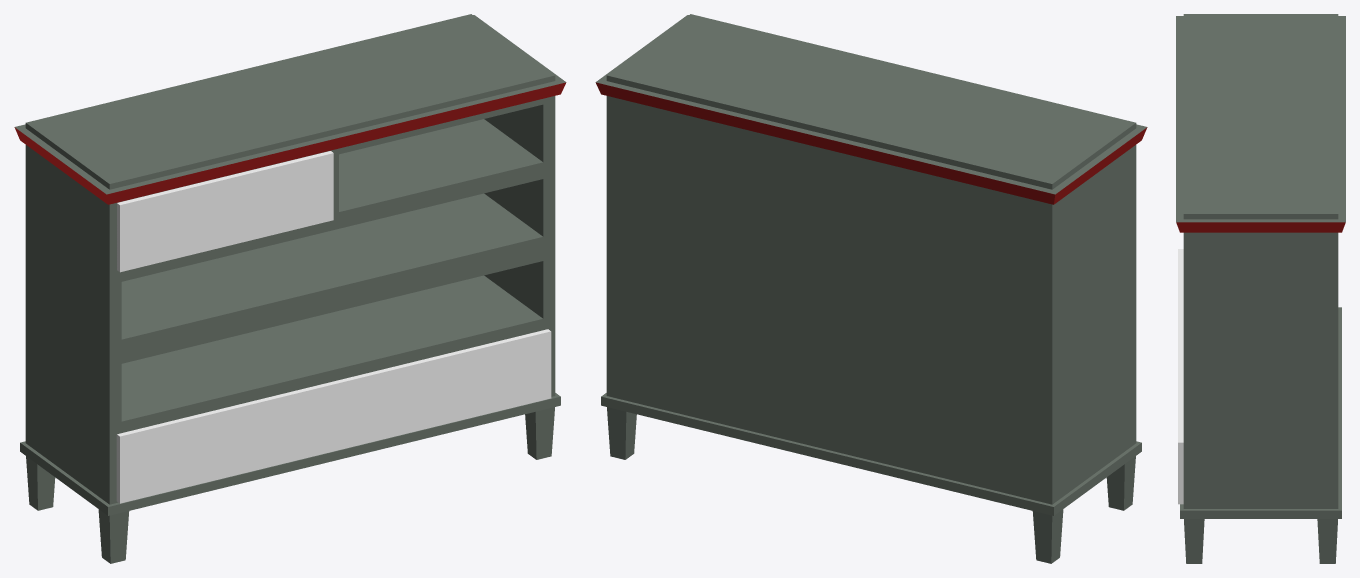
Rendered from operating_drawer.fbx.
3 views of the same model, side by side, from view 1: azimuth 30°, elevation 25°; view 2: azimuth 150°, elevation 25°; view 3: azimuth 270°, elevation 25° (orthographic). The views are drawn at different scales.
Visible parts, largest first — view 1: operating_drawer, drawer1, drawer4; view 2: operating_drawer; view 3: operating_drawer, drawer1.
Part boxes in pixels (x1=…): operating_drawer: x1=14, y1=14, x2=566, y2=563; drawer1: x1=116, y1=329, x2=551, y2=503; drawer4: x1=117, y1=151, x2=333, y2=272; operating_drawer: x1=595, y1=14, x2=1147, y2=563; operating_drawer: x1=1176, y1=14, x2=1345, y2=563; drawer1: x1=1178, y1=249, x2=1183, y2=504.
Bounding box in the file's own units: 129 × 102 × 44.63.
